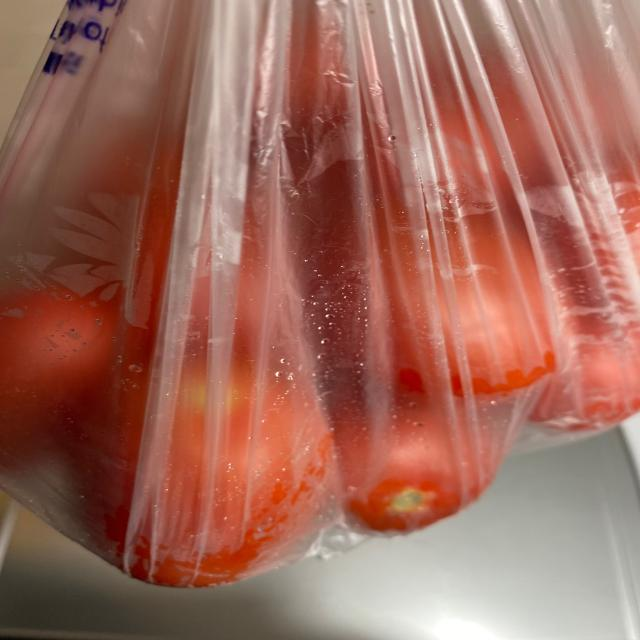tomato: (5, 62, 640, 580)
